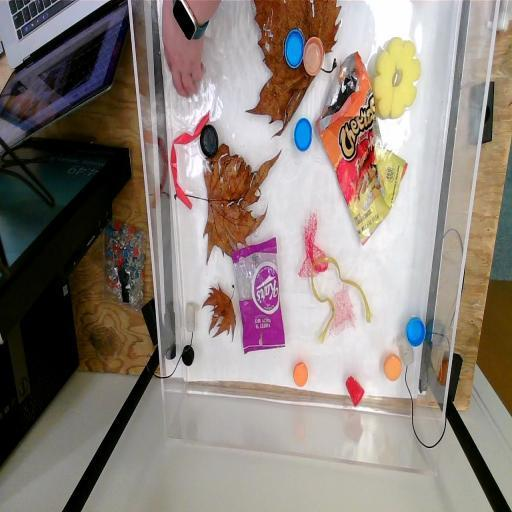Bottle Cap: (302, 32, 325, 80), (283, 26, 304, 72), (198, 120, 220, 162), (406, 311, 426, 352), (293, 116, 313, 156), (382, 351, 402, 384), (292, 359, 310, 393), (182, 342, 196, 369)
Cone Cap: (344, 372, 366, 412)
Leaf: (252, 0, 341, 124), (194, 146, 280, 260), (201, 281, 240, 344)
Netting: (296, 210, 331, 284), (330, 282, 358, 342)
Plastic Bag: (318, 53, 409, 243), (234, 240, 289, 357)
Plastic Strand: (310, 251, 374, 347), (170, 107, 215, 215)
Sponge: (372, 34, 424, 124)
